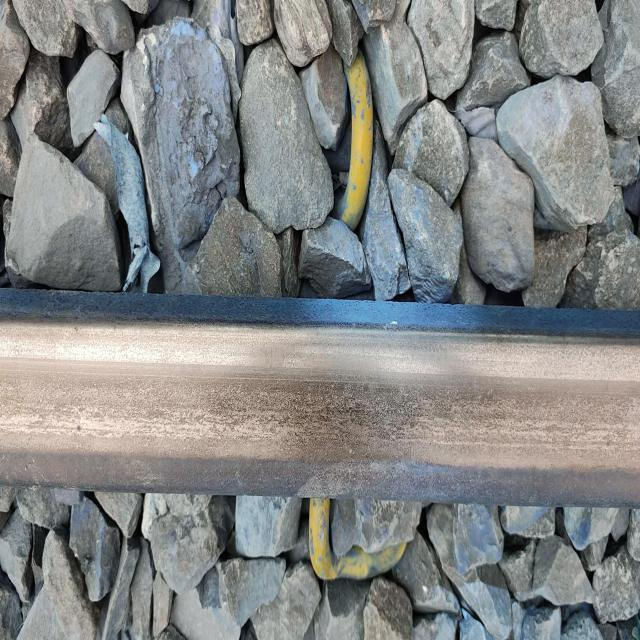Good Fasteners: (309, 498, 406, 580), (337, 53, 373, 230)
